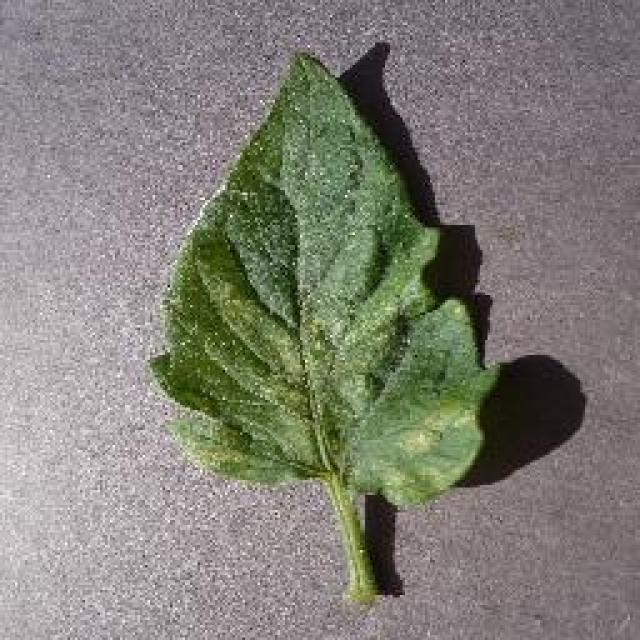Tomato___Spider_mites Two-spotted_spider_mite: (150, 52, 498, 598)
